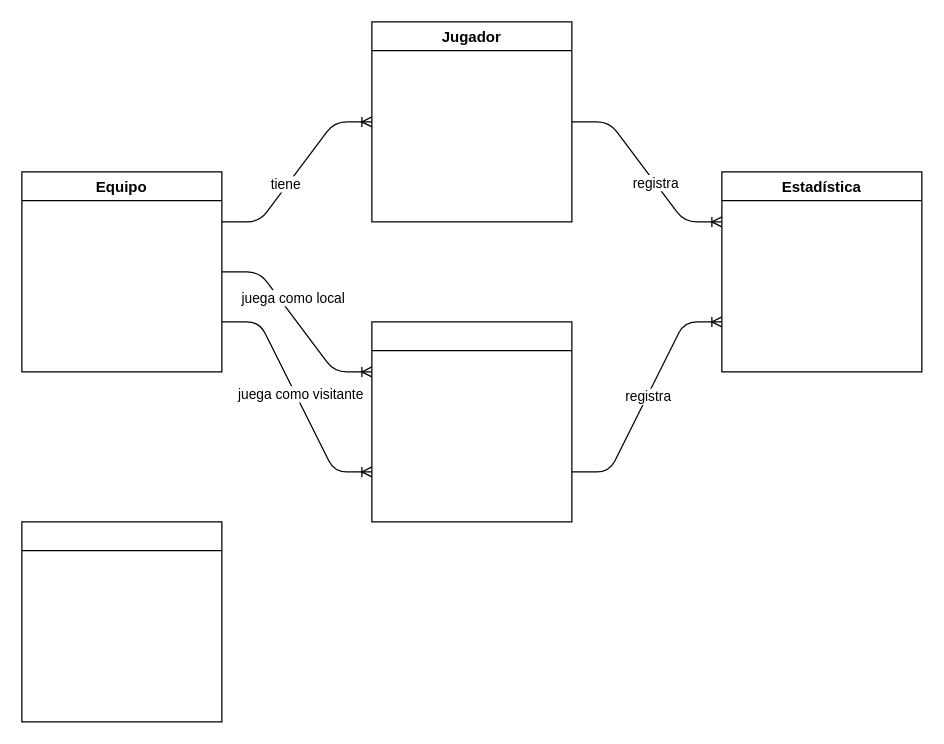
Some shapes in this 944 by 744 pixel diagram are drawn without their labels. The centre of each missing label's shape, as x and y in pixels:
Partido: (471,421)
Usuario: (121,621)
